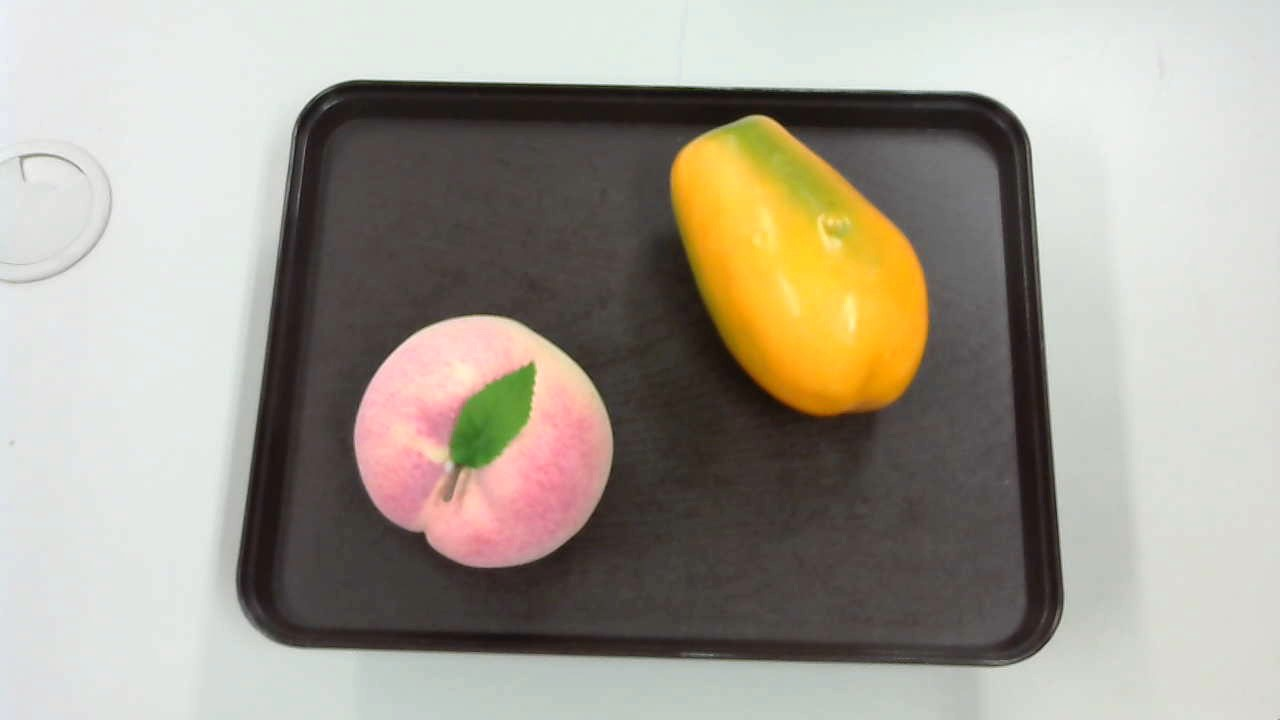papya: (670, 116, 928, 418)
peach: (351, 313, 614, 572)
